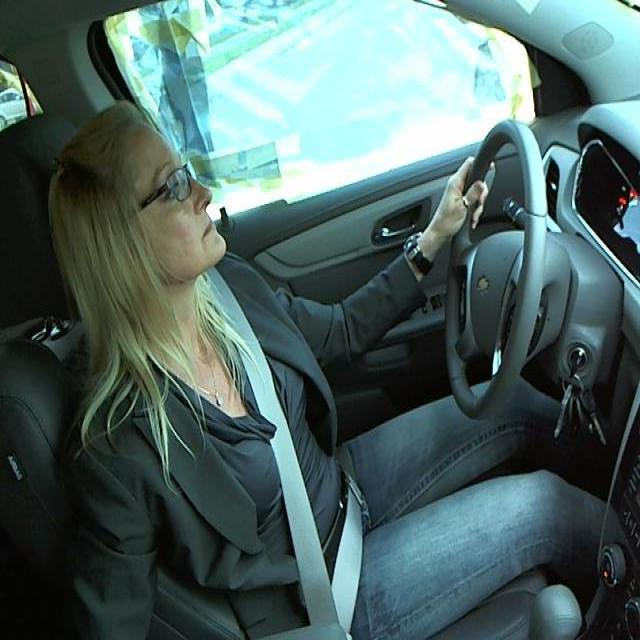seatbelt: (210, 288, 380, 631)
